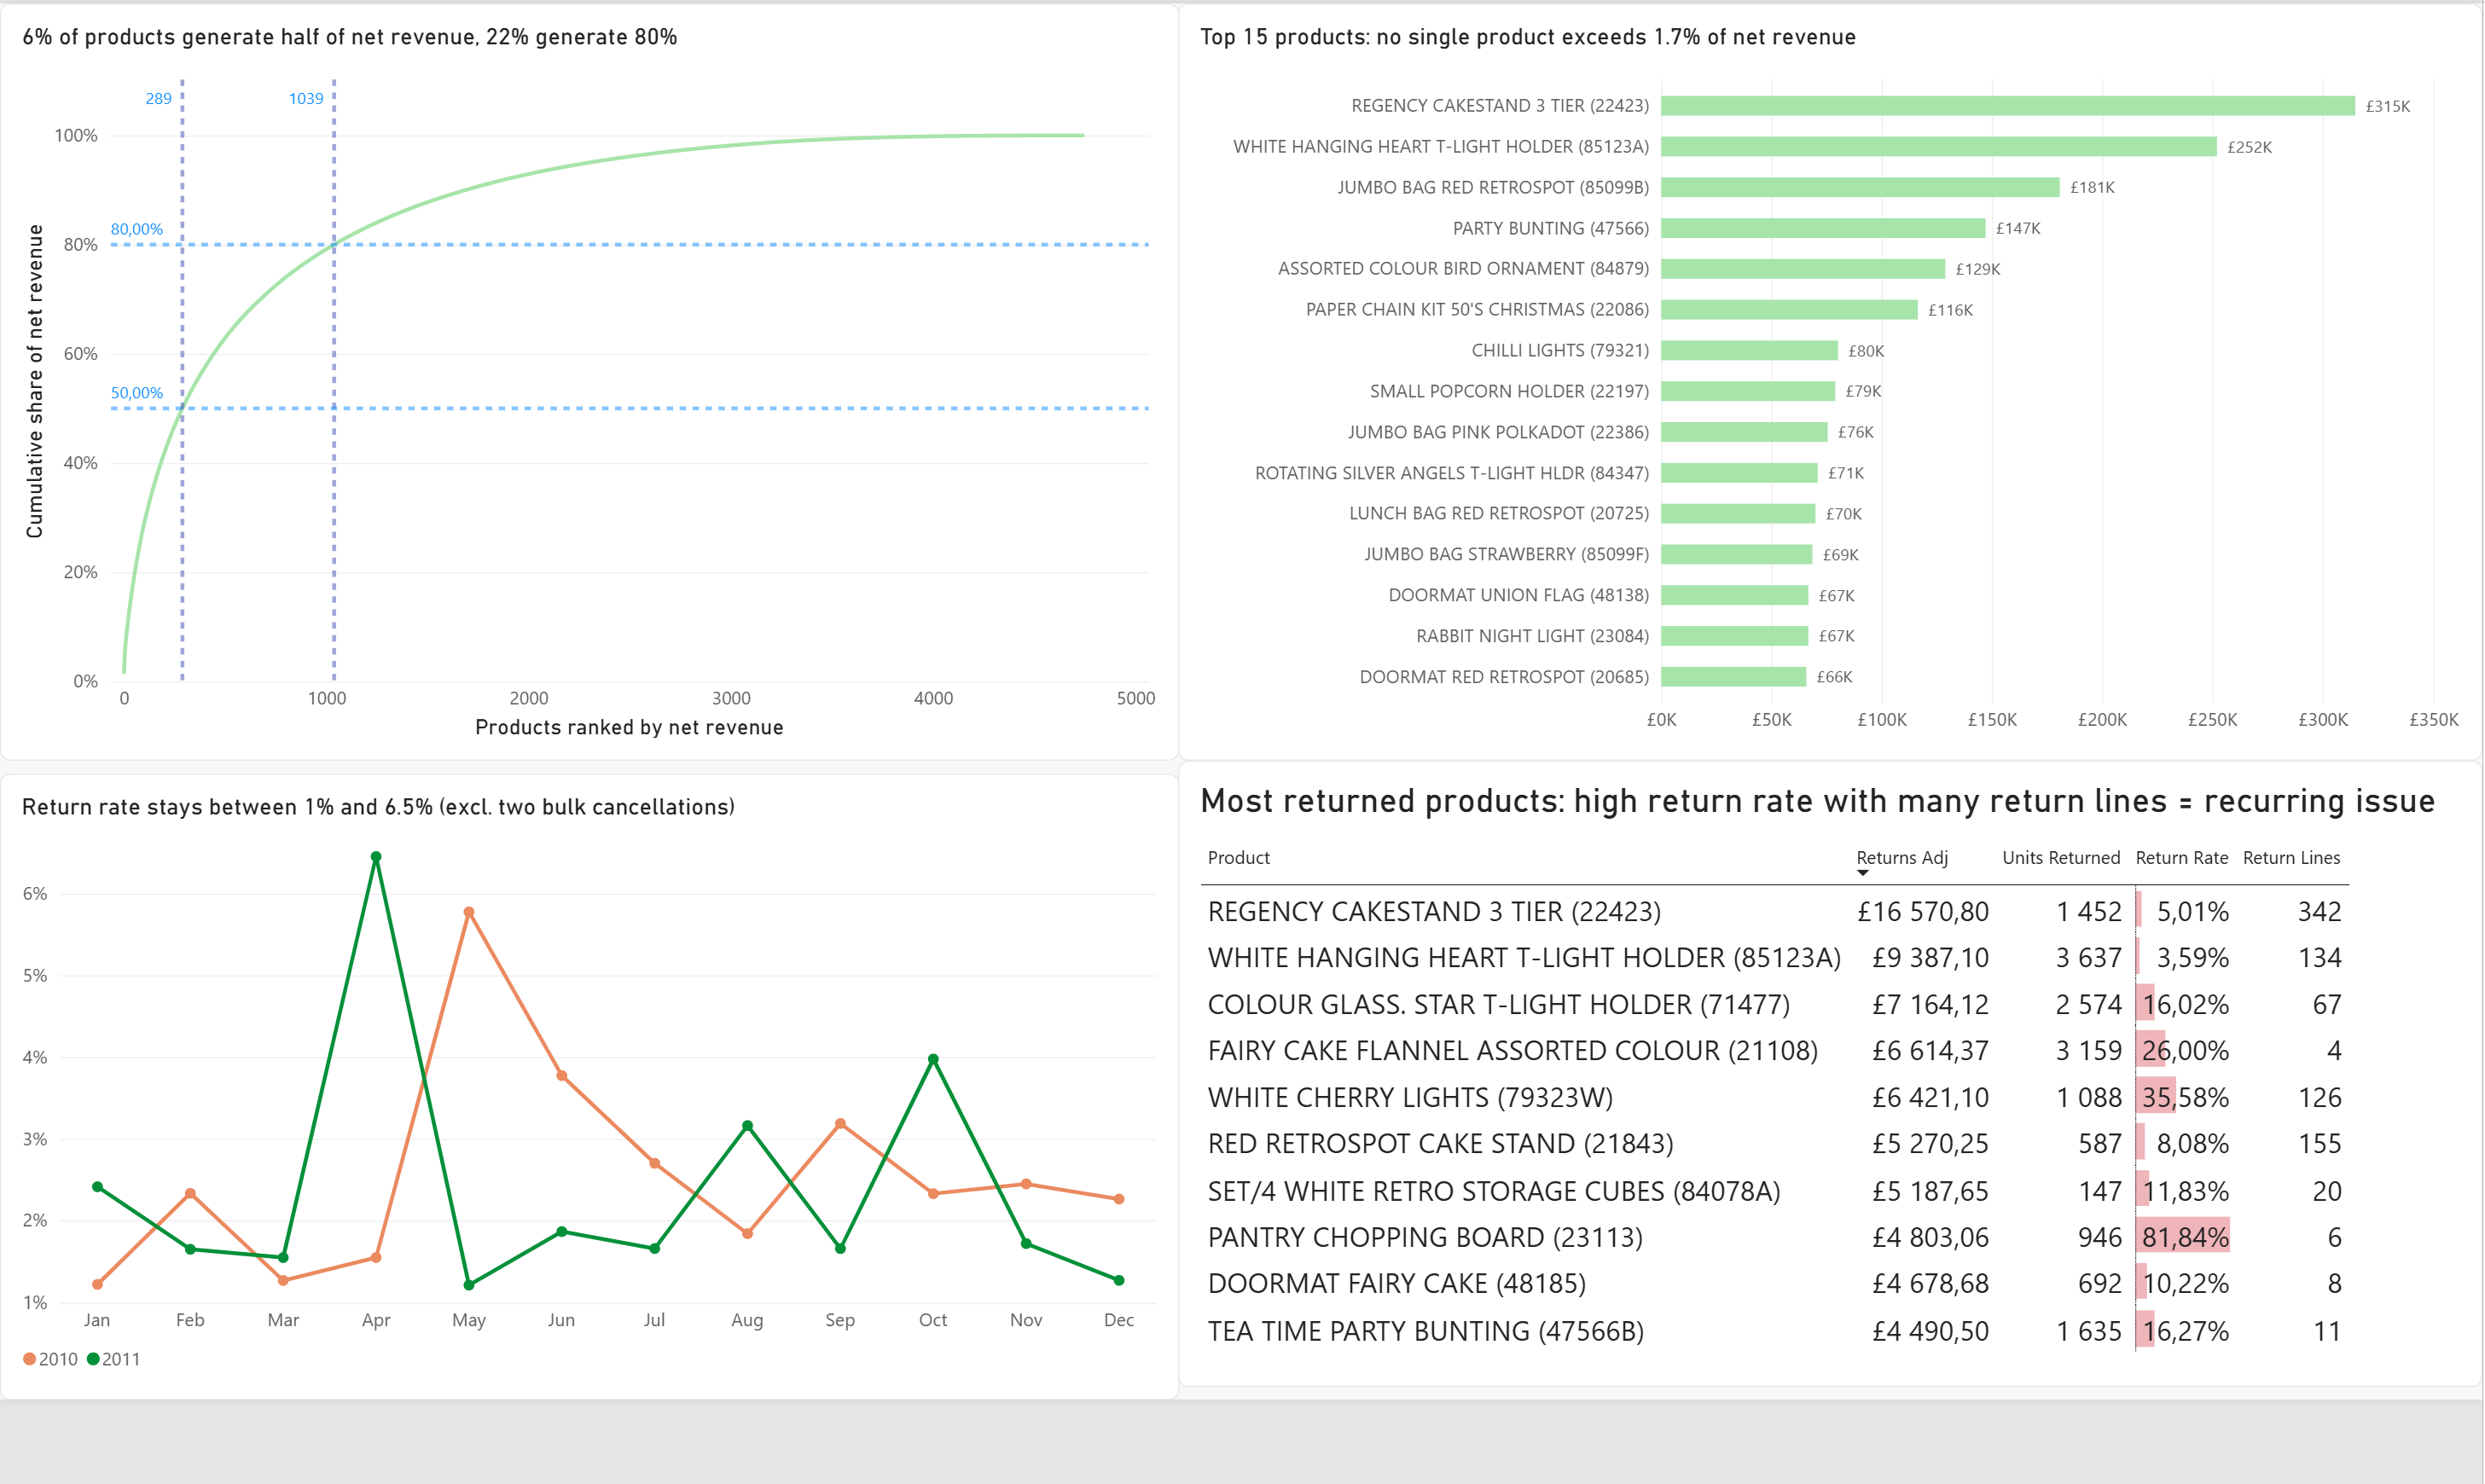

Layout of this report page (visuals, bound fields, positions):
{"tool":"powerbi","page":{"name":"Products & Returns","canvas":[1920,1080],"ordinal":2},"visuals":[{"type":"lineChart","title":"6% of products generate half of net revenue, 22% generate 80%","fields":{"Category":["dim_product.Net Rank"],"Y":["_Measures.Cumulative % by Rank"]},"box":[0,0,912,586],"z":0},{"type":"clusteredBarChart","title":"Top 15 products: no single product exceeds 1.7% of net revenue","fields":{"Category":["dim_product.Product"],"Y":["_Measures.Net Revenue"]},"box":[912,0,1008,586],"z":1},{"type":"lineChart","title":"Return rate stays between 1% and 6.5% (excl. two bulk cancellations)","fields":{"Category":["dim_date.Month Name"],"Series":["dim_date.SalesYear"],"Y":["_Measures.Return Rate Adj"]},"box":[0,596,912,484],"z":2},{"type":"tableEx","title":"Most returned products: high return rate with many return lines = recurring issue","fields":{"Values":["dim_product.Product","_Measures.Returns Adj","_Measures.Units Returned","_Measures.Return Rate","_Measures.Return Lines"]},"box":[912,586,1008,484],"z":3}]}

Visuals, with their boxes on the page's 1920x1080 design canvas (x1, y1, x2, y2). These are canvas units, not pixel positions in the 2485x1484 screenshot, which may show the page scaled, cropped or inside an application window:
"6% of products generate half of net revenue, 22% generate 80%" lineChart: 0:0:912:586
"Top 15 products: no single product exceeds 1.7% of net revenue" clusteredBarChart: 912:0:1920:586
"Return rate stays between 1% and 6.5% (excl. two bulk cancellations)" lineChart: 0:596:912:1080
"Most returned products: high return rate with many return lines = recurring issue" tableEx: 912:586:1920:1070
